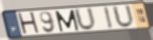9: (39, 11, 57, 33)
H: (17, 11, 42, 36)
I: (102, 6, 114, 30)
M: (54, 9, 80, 33)
U: (73, 6, 98, 32), (111, 4, 136, 29)
